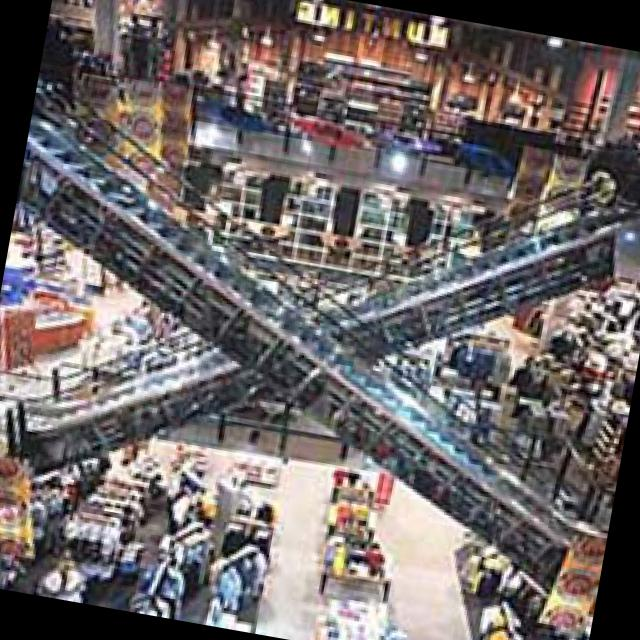elevator door: (19, 91, 605, 611), (15, 167, 640, 474)
floor -X: (0, 248, 614, 640)
